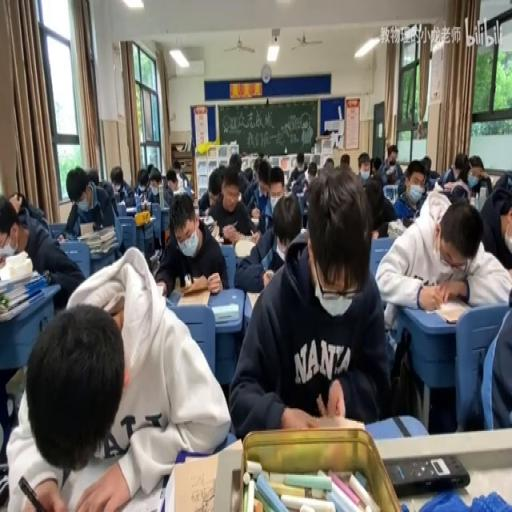calculator: (168, 453, 222, 512), (114, 473, 161, 512), (296, 414, 364, 431), (174, 283, 210, 306), (434, 301, 469, 323), (211, 302, 238, 324), (234, 238, 258, 258), (386, 218, 406, 236), (90, 244, 115, 258), (256, 189, 269, 212), (78, 220, 94, 238), (148, 248, 160, 272), (246, 288, 260, 308), (132, 215, 154, 226), (201, 216, 216, 232), (217, 234, 232, 244), (54, 233, 66, 245), (250, 215, 260, 226), (125, 205, 136, 213), (295, 191, 306, 199)
paper: (9, 248, 227, 510), (230, 168, 390, 438), (373, 190, 508, 332), (0, 192, 85, 311), (155, 192, 227, 300), (479, 296, 512, 429), (62, 165, 117, 239), (207, 165, 258, 240), (364, 170, 398, 238), (462, 154, 492, 198), (437, 151, 469, 186), (144, 168, 170, 209), (109, 165, 133, 206), (0, 194, 19, 238), (383, 142, 402, 185), (287, 150, 307, 188), (414, 155, 436, 189), (267, 165, 284, 198), (170, 161, 188, 192), (246, 179, 260, 209), (227, 152, 240, 174), (370, 155, 382, 178), (86, 166, 100, 185), (137, 170, 149, 190), (242, 166, 254, 184), (358, 154, 370, 170), (306, 160, 316, 178), (251, 158, 261, 176), (138, 188, 148, 205), (217, 162, 226, 179), (324, 156, 334, 170), (340, 154, 350, 168), (182, 184, 193, 196), (302, 171, 310, 186), (297, 158, 304, 169), (179, 164, 185, 172), (257, 152, 262, 161)
person: (383, 454, 469, 496), (402, 215, 414, 226), (147, 199, 152, 215)
